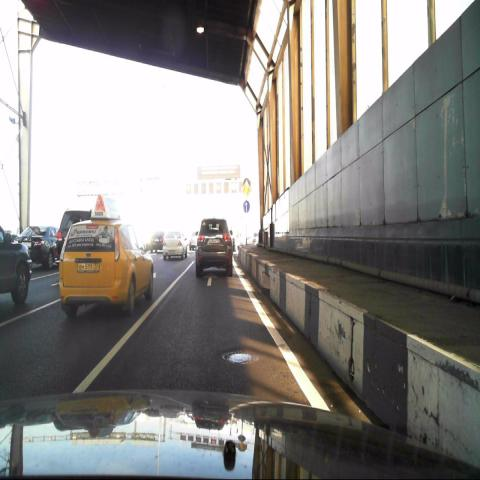2_1: (242, 180, 252, 198)
4_1_1: (243, 200, 250, 214)
